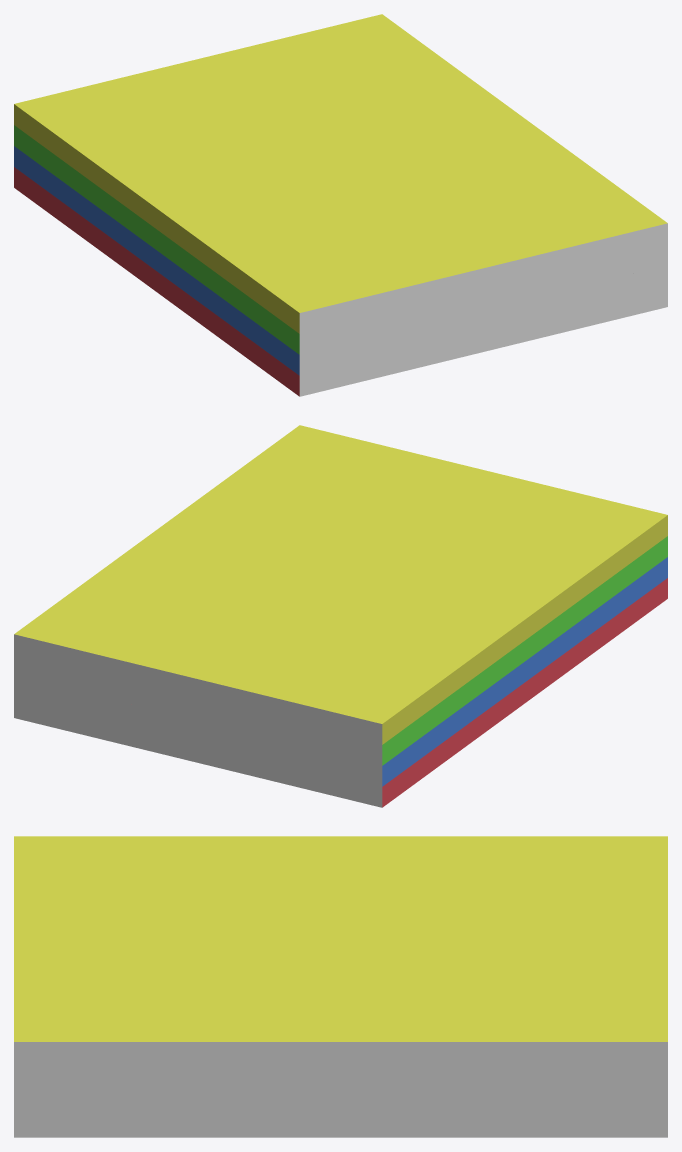
The model's file is bookPile.fbx.
3 views of the same model, one above another, from view 1: azimuth 30°, elevation 25°; view 2: azimuth 150°, elevation 25°; view 3: azimuth 270°, elevation 25° (orthographic). The views are drawn at different scales.
Parts seen in each view (by area): view 1: Cahier.004; view 2: Cahier.004; view 3: Cahier.004.
Boxes of the visible parts, left/top/right/bottom form: Cahier.004: left=14, top=14, right=667, bottom=396; Cahier.004: left=14, top=425, right=667, bottom=807; Cahier.004: left=14, top=836, right=667, bottom=1137.
Size of the model in its own units: 51.72 by 11.24 by 69.51.
